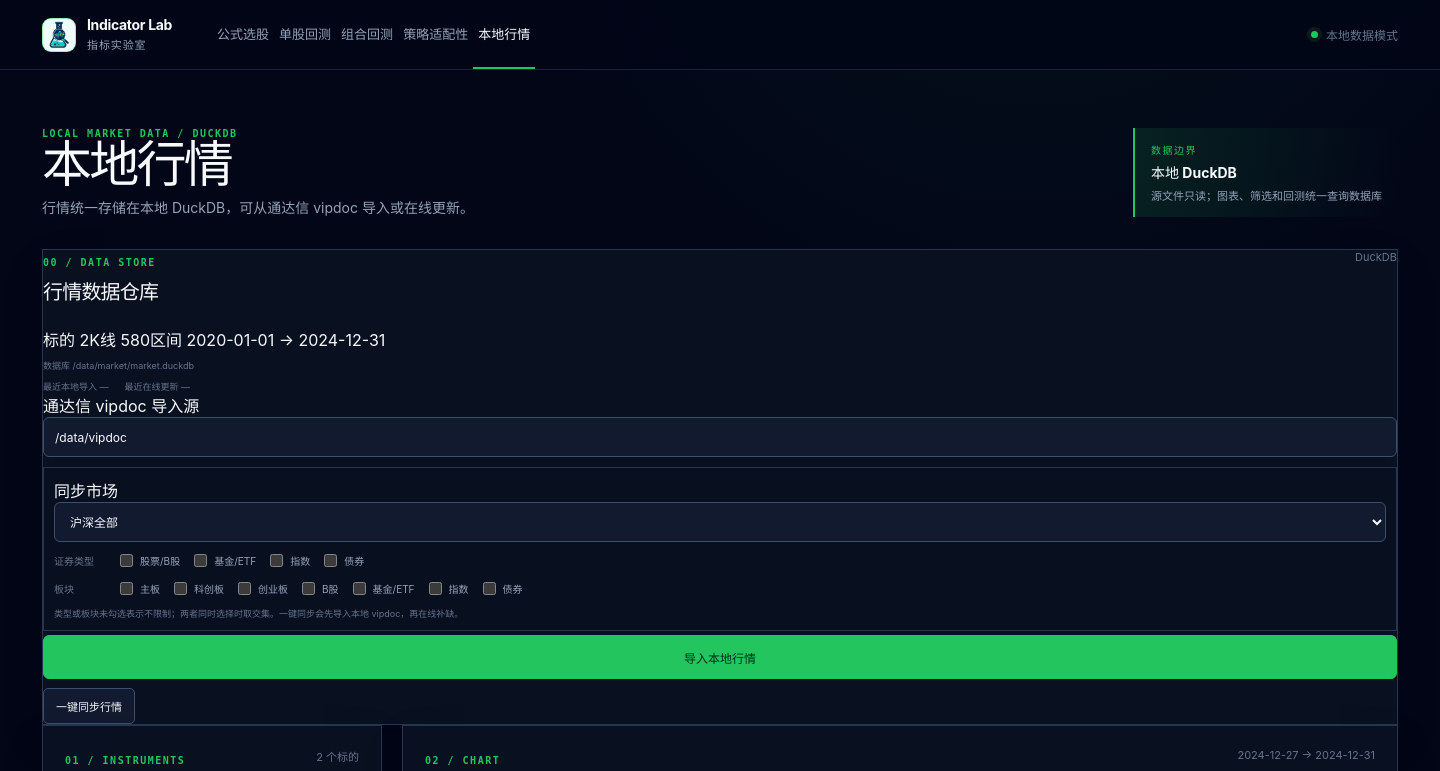
MarketDataPage › uses one-click sync to import local data and then update online data
The image size is (1440, 771).
What coordinates should you click on to do the following:
click the button with test id "market-sync-online"
I would click on:
 (89, 706)
Its box is x1=43 y1=688 x2=135 y2=724.
(page scrolled)
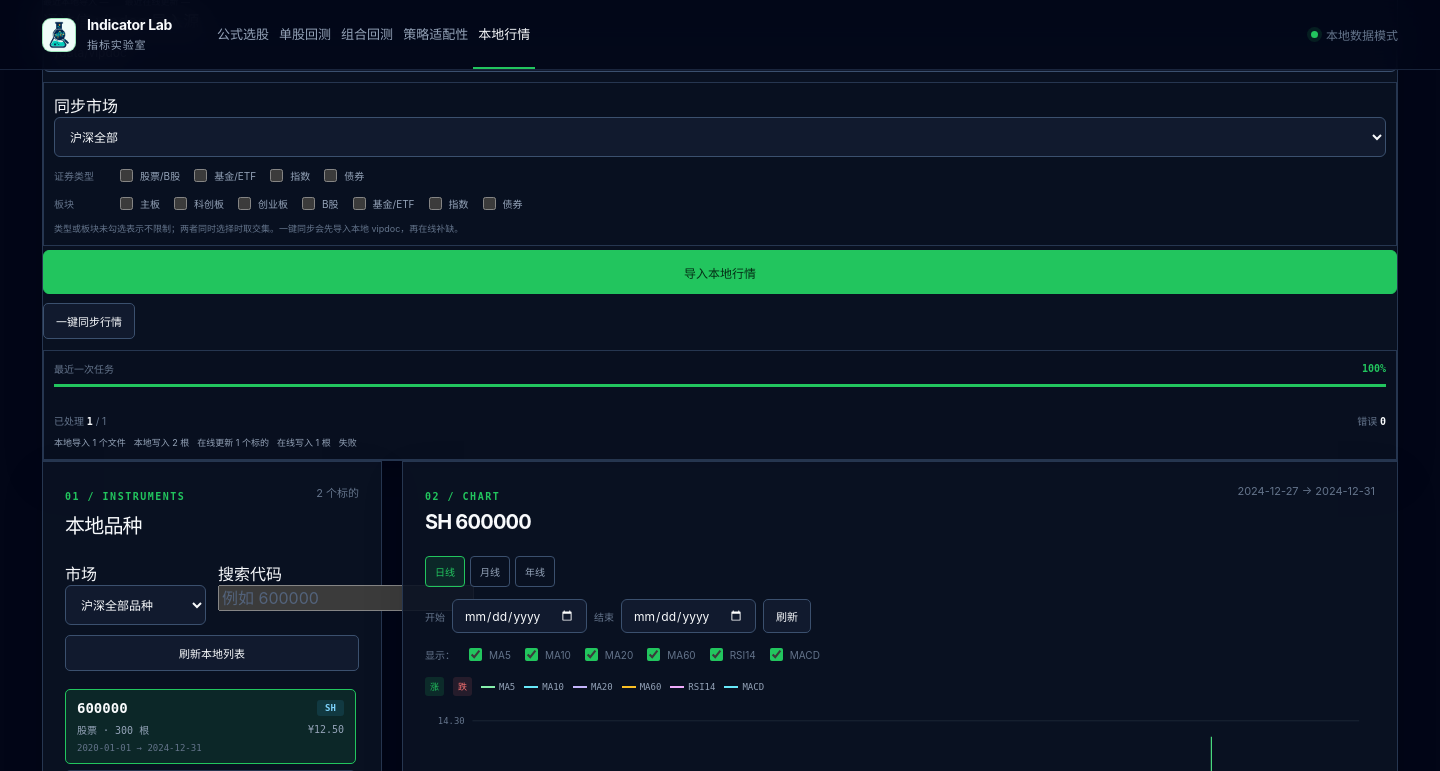
Expected: the element with test id "market-data-progress" shows "本地导入 1 个文件", x1=54 y1=437 x2=126 y2=448
Expected: the element with test id "market-data-progress" shows "在线写入 1 根", x1=277 y1=437 x2=331 y2=448
